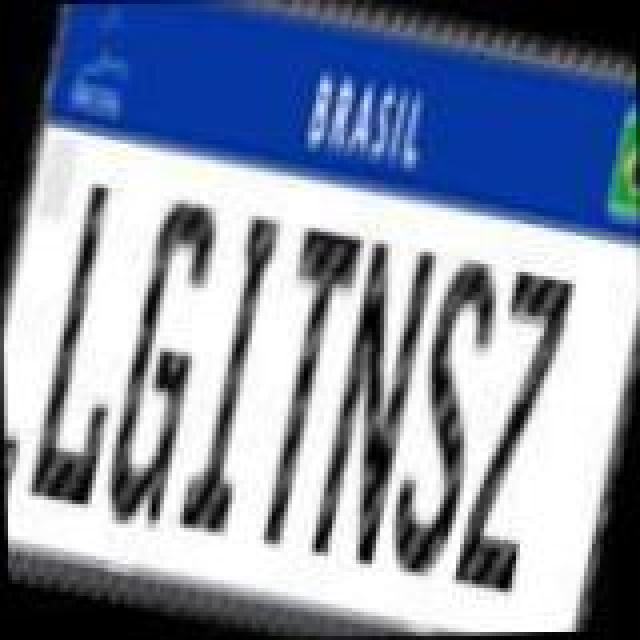G: (90, 192, 234, 540)
I: (170, 208, 298, 544)
L: (20, 180, 160, 516)
N: (300, 236, 444, 576)
S: (374, 250, 514, 590)
T: (236, 222, 372, 558)
Z: (440, 262, 584, 606)
